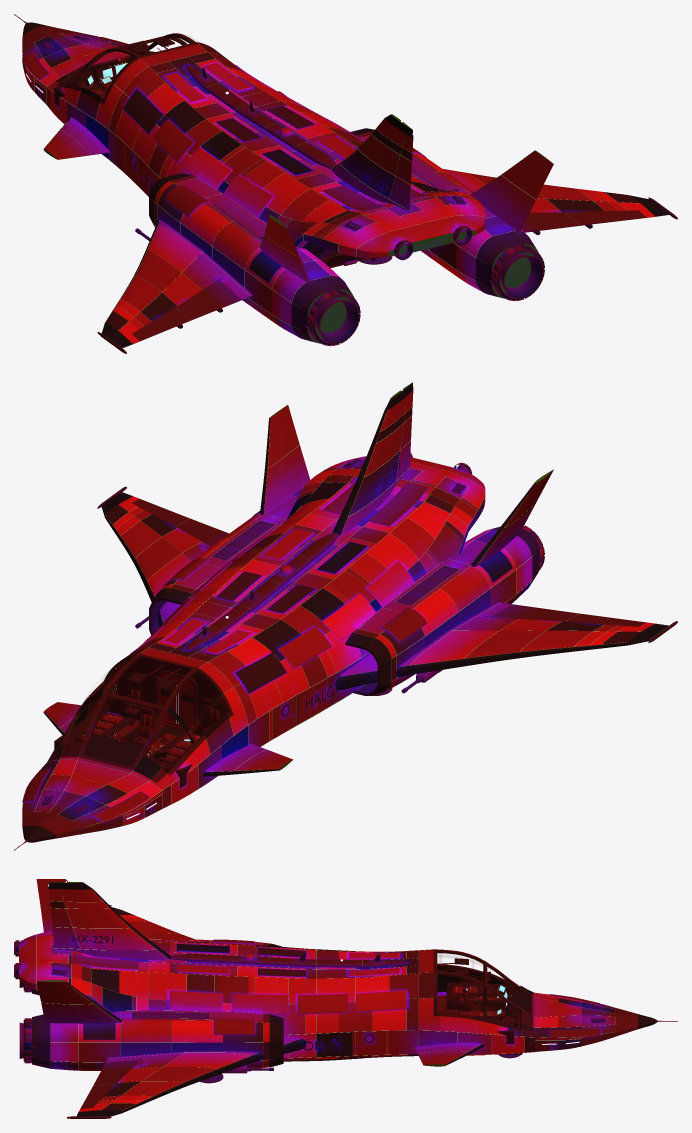
The model's file is halcyon.glb.
3 views of the same model, one above another, from view 1: azimuth 30°, elevation 25°; view 2: azimuth 150°, elevation 25°; view 3: azimuth 270°, elevation 25° (orthographic). The views are drawn at different scales.
Parts seen in each view (by area): view 1: exterior, cockpit, flap-port, flap-stbd; view 2: exterior, cockpit, interior, flap-port, flap-stbd, door-1-port; view 3: exterior, cockpit, flap-stbd.
Boxes of the visible parts, x1,y1,x2,y2 form: exterior: (14, 14, 677, 353); cockpit: (54, 34, 191, 106); flap-port: (132, 280, 241, 341); flap-stbd: (522, 210, 646, 232); exterior: (14, 382, 677, 850); cockpit: (54, 655, 229, 787); interior: (109, 655, 226, 735); flap-port: (491, 604, 646, 626); flap-stbd: (132, 499, 228, 546); door-1-port: (177, 676, 194, 732); exterior: (14, 879, 677, 1118); cockpit: (437, 951, 530, 1043); flap-stbd: (80, 1060, 139, 1108).
Bounding box in the file's own units: 21.63 × 8.15 × 28.49.
